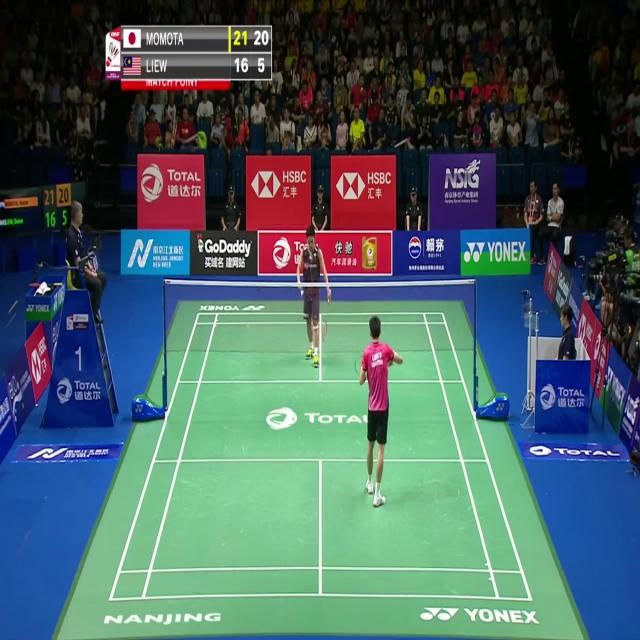Shuttlecock: (298, 287, 304, 298)
